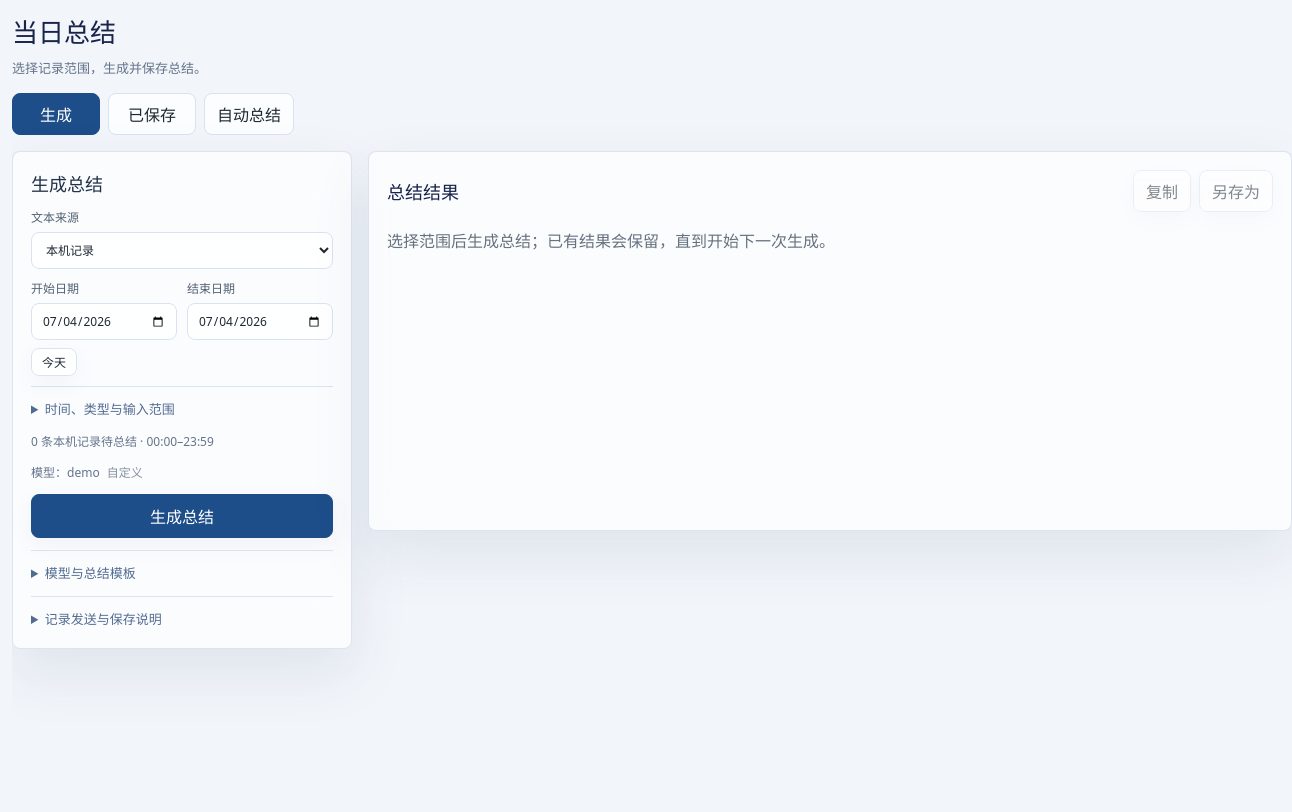
Scenario: summary streaming and generated log loading › retains partial text when leaving the page aborts an active stream
This screenshot has width=1292, height=812.
What coordinates should you click on to do the following:
click the button "生成总结"
I would click on:
 (182, 516)
Its box is [31,494,333,538].
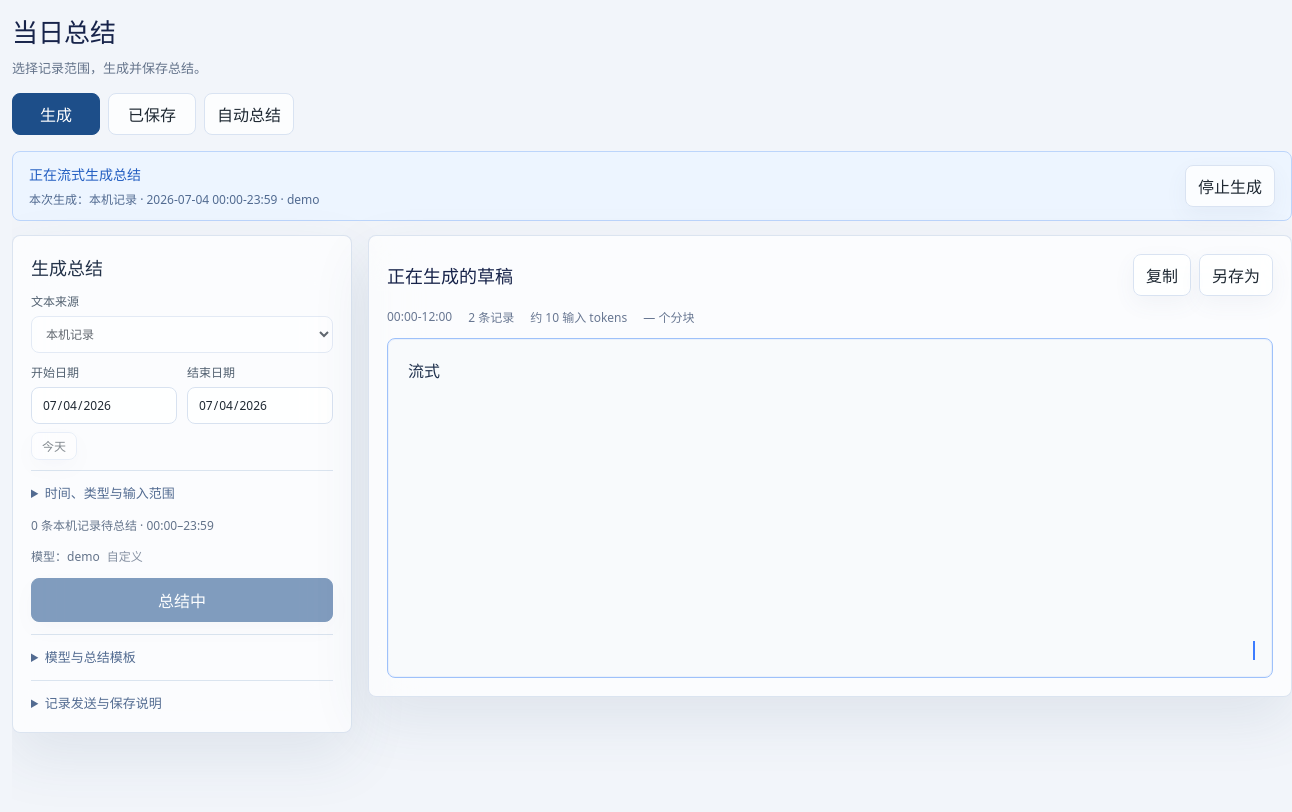
Expected: the text "流式" is shown, [408,360,440,382]
